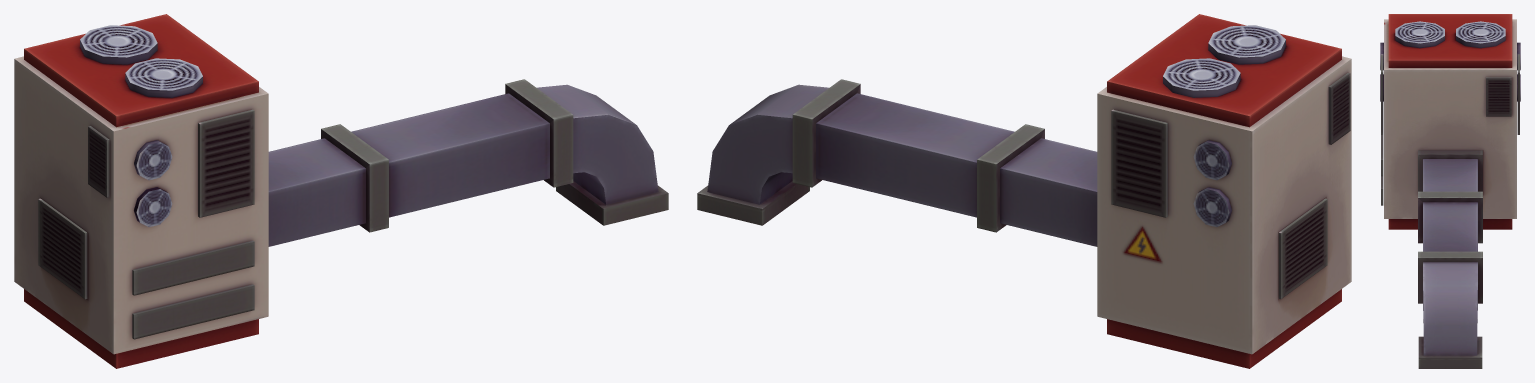
File: Obstacle_AC1_2L_Jump.FBX
The picture shows the model from 3 angles, left to right: view 1: azimuth 30°, elevation 25°; view 2: azimuth 150°, elevation 25°; view 3: azimuth 270°, elevation 25°; orthographic projection. The views are drawn at different scales.
Parts seen in each view (by area): view 1: Obstacle_AC1_2L_Jump; view 2: Obstacle_AC1_2L_Jump; view 3: Obstacle_AC1_2L_Jump.
Part boxes in pixels (left/top/right/bottom): Obstacle_AC1_2L_Jump: left=14, top=14, right=668, bottom=368; Obstacle_AC1_2L_Jump: left=697, top=14, right=1351, bottom=368; Obstacle_AC1_2L_Jump: left=1380, top=14, right=1520, bottom=368.
Bounding box in the file's own units: 37.43 × 15.93 × 11.64.
